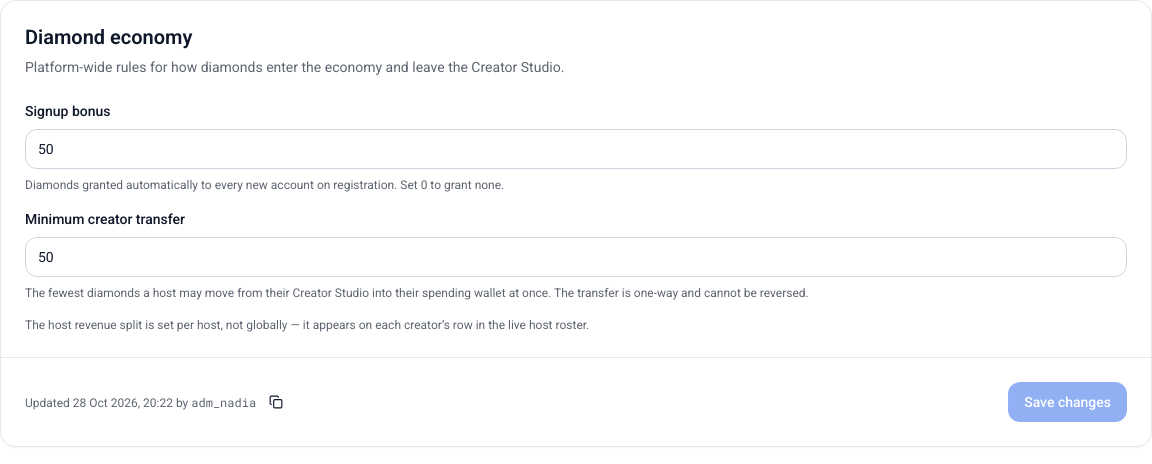
saving › refuses a fractional value, because diamonds are whole units
Replace the text in the field labelled "Minimum creator transfer" with "2.5". click: (576, 257)
box: [25,237,1127,277]
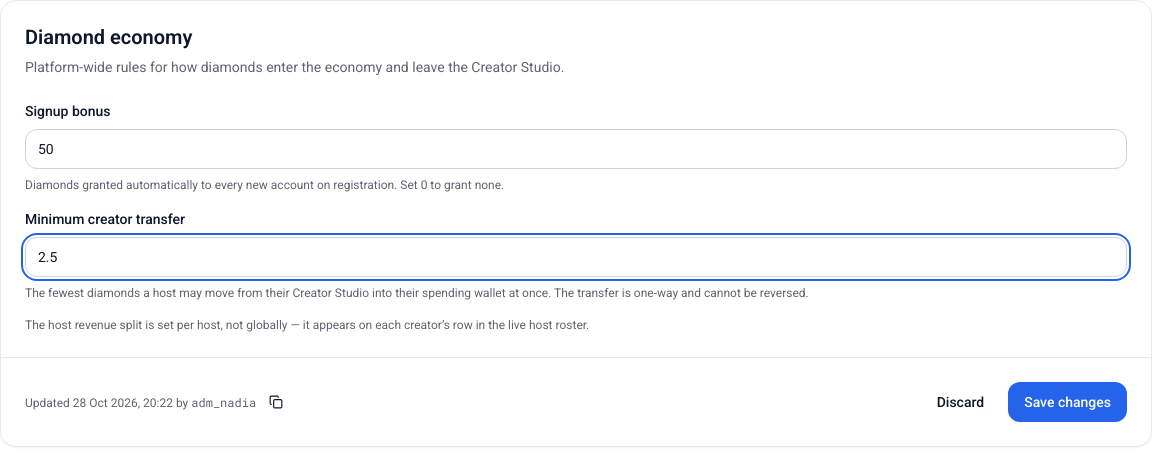
Click the button "Save changes". click: (1068, 402)
box: [1008,382,1127,422]
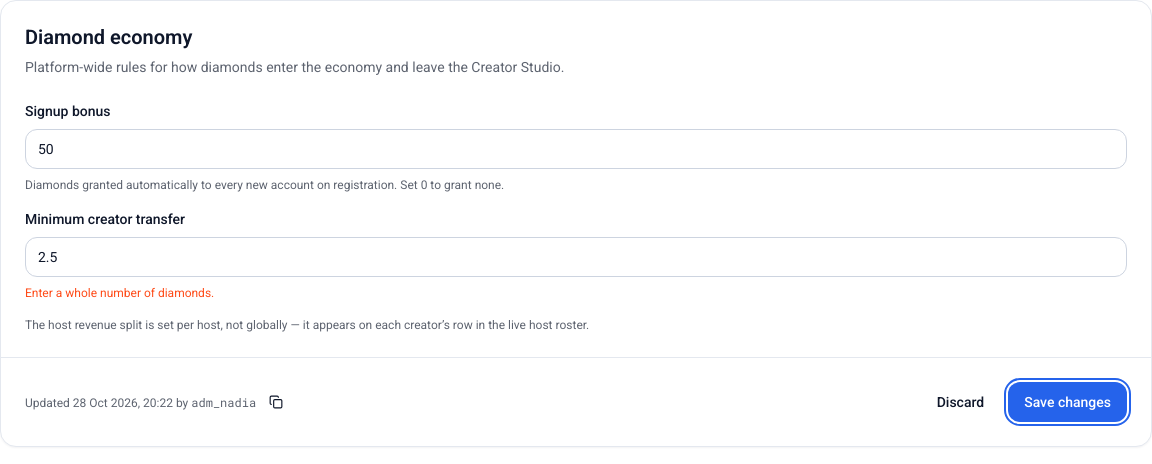
Now the text "Enter a whole number of diamonds." is shown, box [25,286,214,300]
